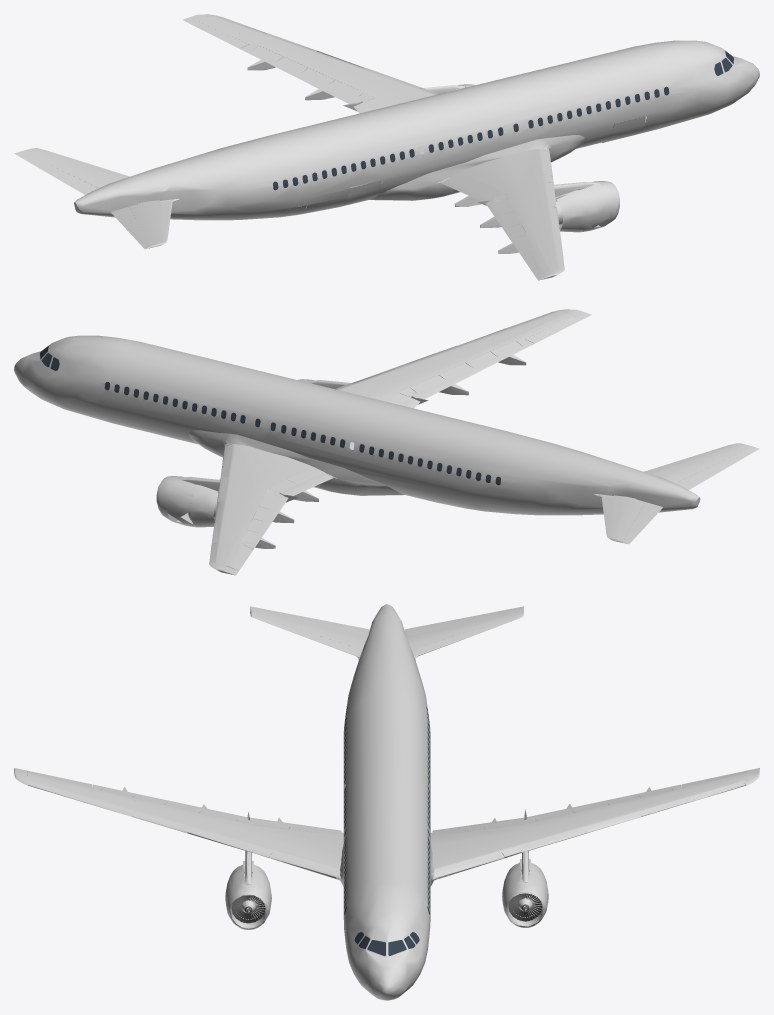
3 views of the same model, one above another, from view 1: azimuth 30°, elevation 25°; view 2: azimuth 150°, elevation 25°; view 3: azimuth 270°, elevation 25° (orthographic). The views are drawn at different scales.
Parts seen in each view (by area): view 1: body, glass; view 2: body, glass; view 3: body, glass, trim.
Boxes of the visible parts, x1,y1,x2,y2 form: body: (14,14,759,280); glass: (273,50,733,190); body: (14,309,759,575); glass: (40,346,500,485); body: (14,604,759,1000); glass: (344,707,429,955); trim: (231,893,542,923).
Bounding box in the file's own units: 2.2 × 0.313 × 1.99.
